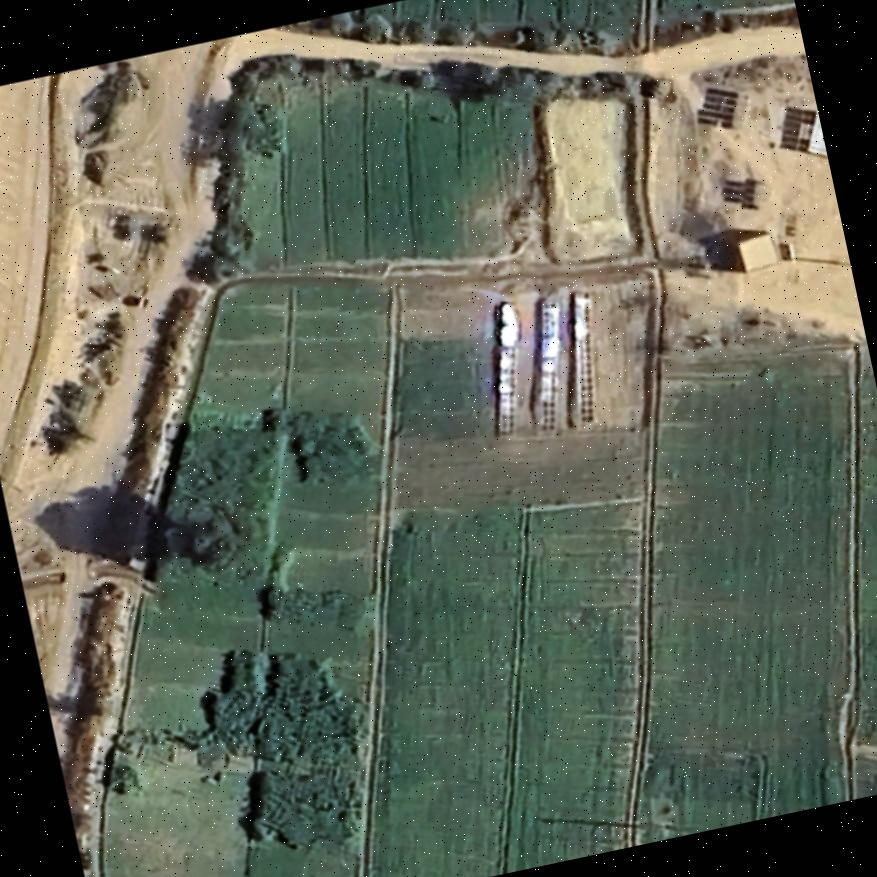Solarpanel: (486, 293, 521, 443), (536, 296, 564, 438), (568, 286, 595, 429), (773, 104, 827, 161), (692, 82, 749, 132), (719, 176, 765, 211)
